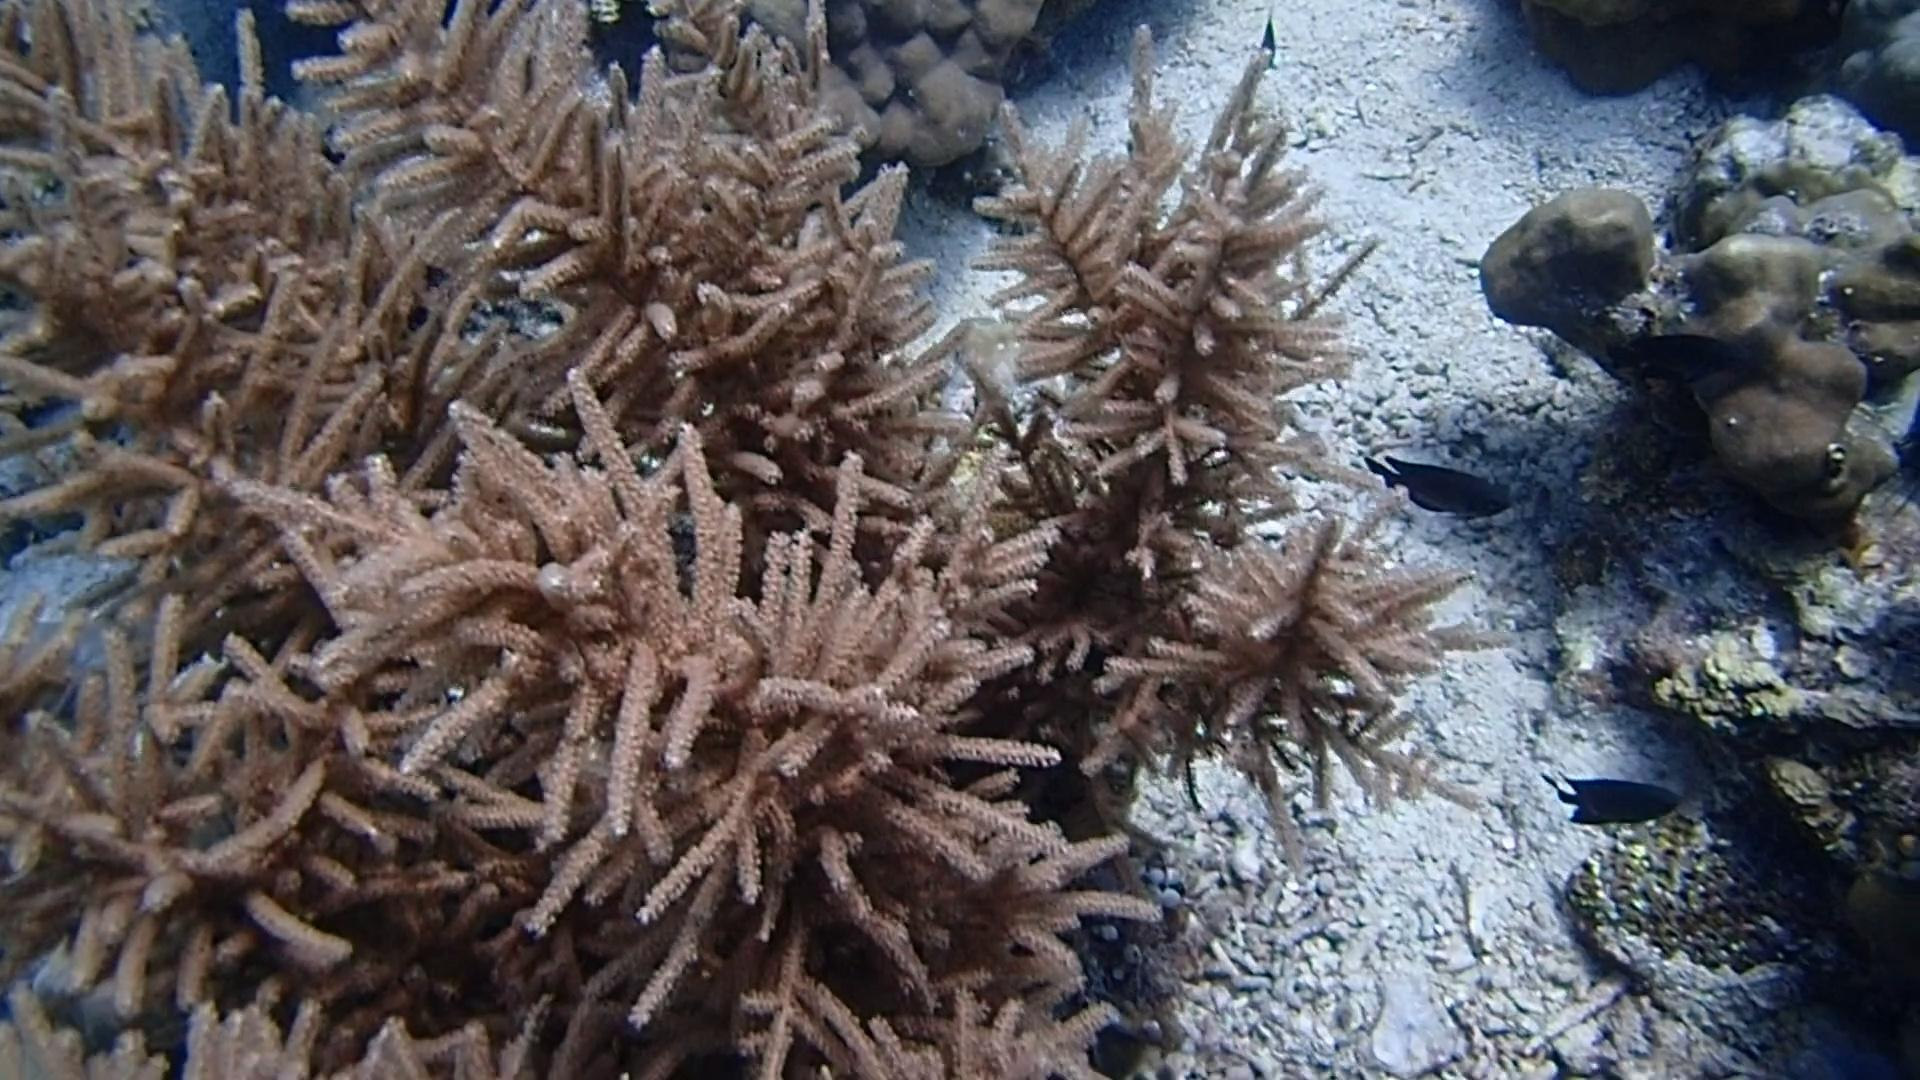Dark Fish: (1350, 446, 1526, 531), (1540, 761, 1687, 840), (1596, 326, 1751, 396)
Yellow Tail: (1250, 9, 1290, 79)
